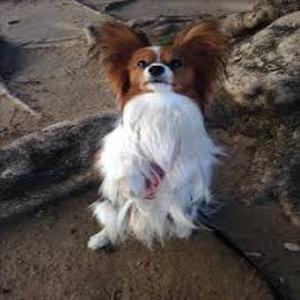yell: (85, 17, 228, 250)
